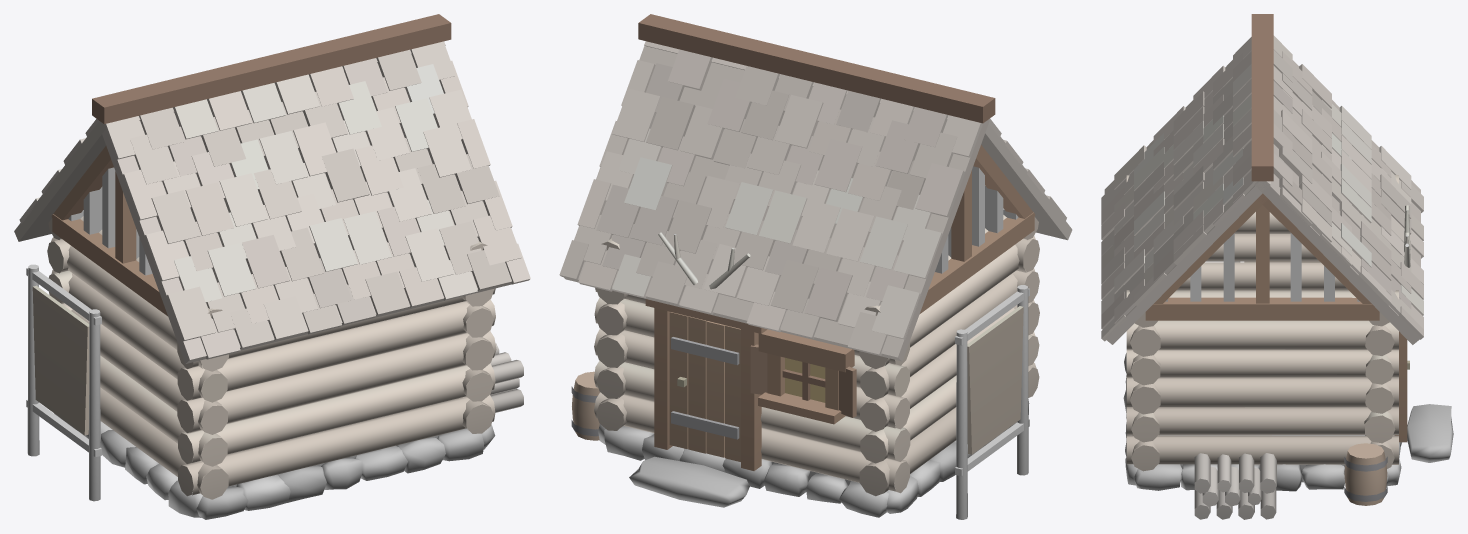
Rendered from hw_hunters_lodge.glb.
3 views of the same model, side by side, from view 1: azimuth 30°, elevation 25°; view 2: azimuth 150°, elevation 25°; view 3: azimuth 270°, elevation 25° (orthographic). The views are drawn at different scales.
Visible parts, largest first — view 1: Building; view 2: Building; view 3: Building.
Boxes of the visible parts, bbox=[...] form: Building: bbox=[14, 14, 530, 519]; Building: bbox=[559, 14, 1072, 519]; Building: bbox=[1101, 14, 1453, 519].
Size of the model in its own units: 3.11 by 2.74 by 2.56.
